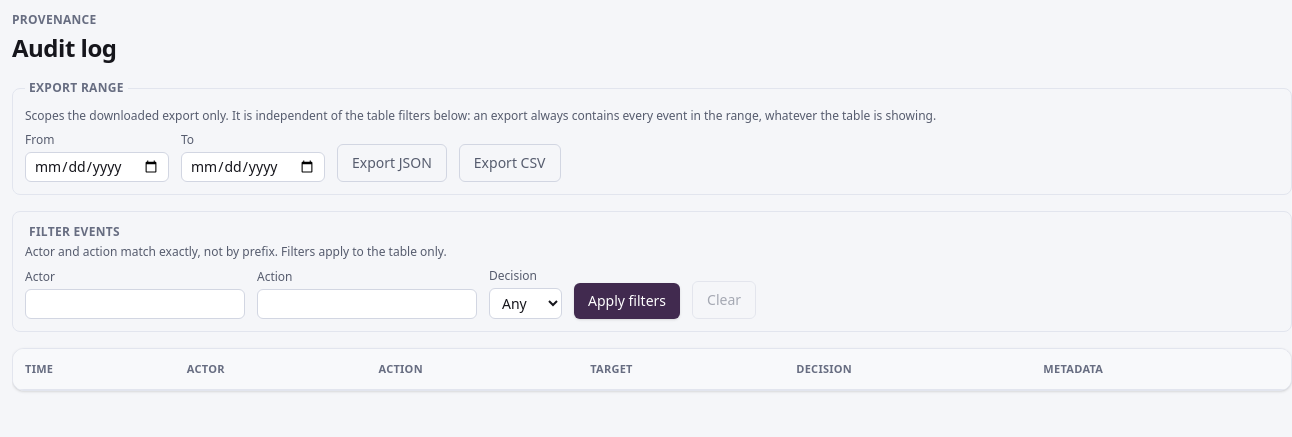
Test: a non-ok export status surfaces the server's own error message via the ApiRequestError body parse, not a generic HTTP-code string
The image size is (1292, 437).
Click the button "Export JSON". click: (392, 163)
box: [337,144,447,182]
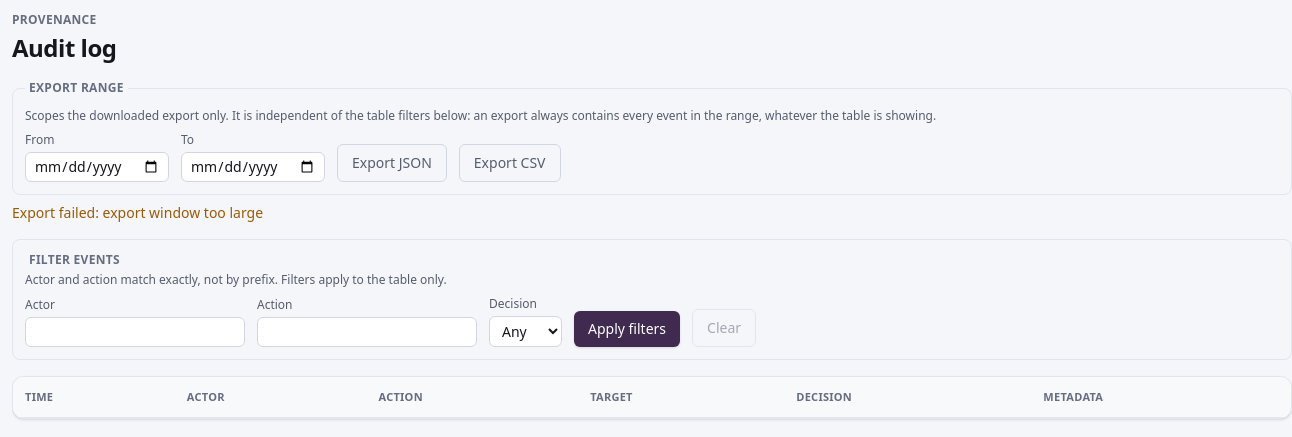
Result: the text "Export failed: export window too large" is shown at [12,203,263,222]
